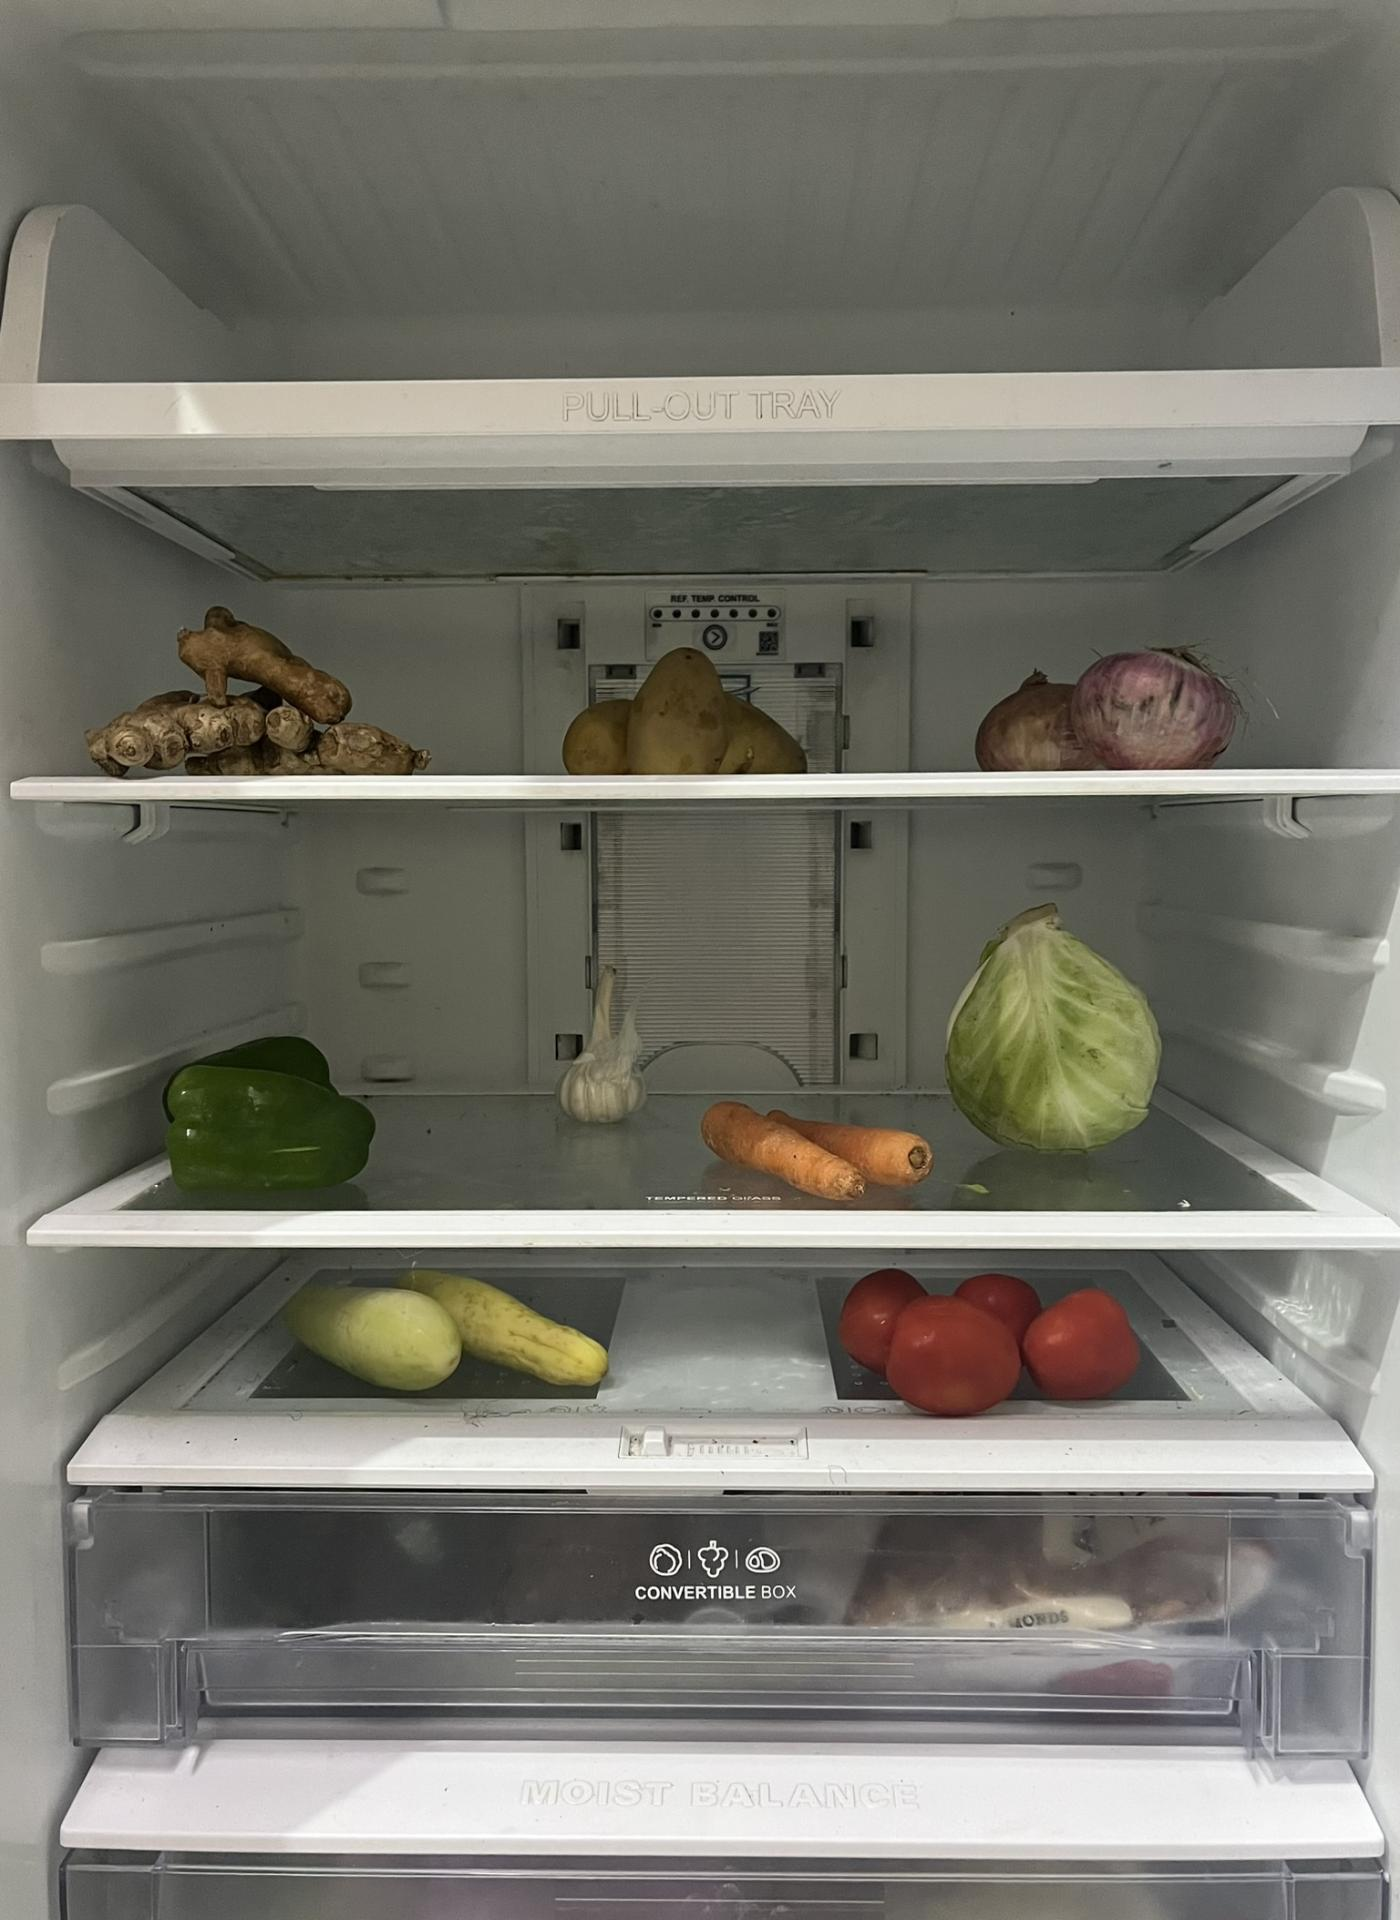cabbage: (941, 906, 1163, 1155)
capsicum: (152, 1033, 388, 1187)
carrots: (708, 1090, 935, 1203)
cucumber: (294, 1258, 616, 1386)
garlic: (558, 963, 650, 1124)
ginger: (79, 602, 446, 771)
onion: (972, 640, 1245, 771)
potato: (562, 644, 820, 771)
tomato: (826, 1258, 1136, 1412)
